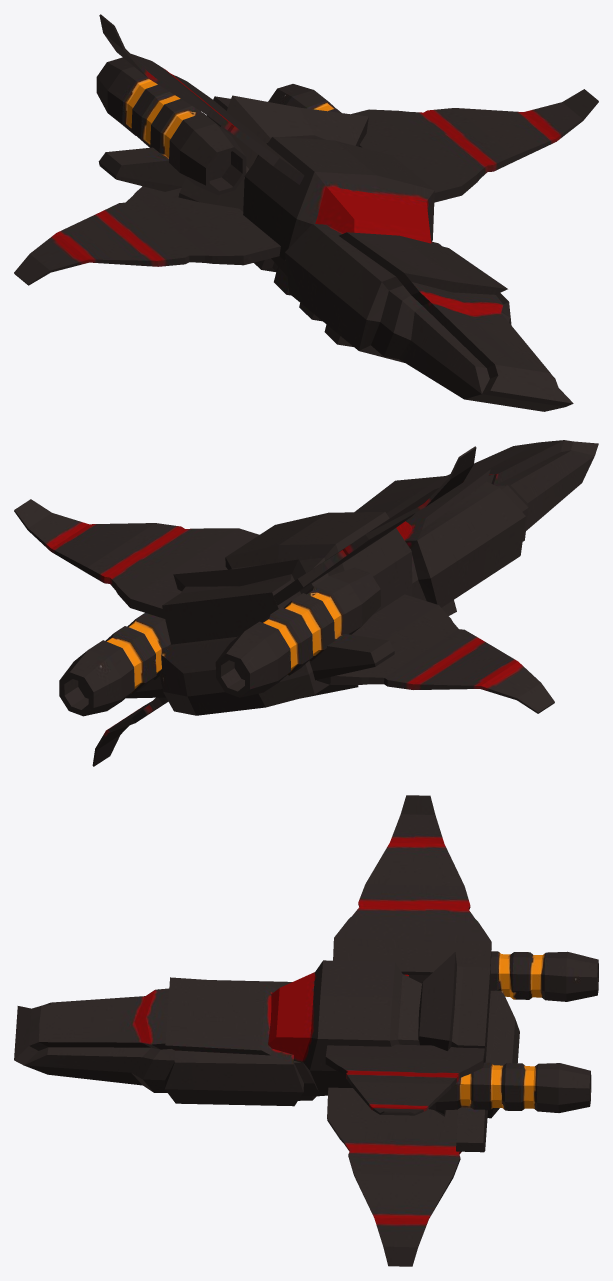
File: nave-anim.glb
3 views of the same model, one above another, from view 1: azimuth 30°, elevation 25°; view 2: azimuth 150°, elevation 25°; view 3: azimuth 270°, elevation 25° (orthographic). The views are drawn at different scales.
Parts seen in each view (by area): view 1: Cube.001; view 2: Cube.001; view 3: Cube.001.
Boxes of the visible parts, box(x1,y1,x2,y2) form: Cube.001: box(14, 14, 598, 411); Cube.001: box(14, 440, 598, 766); Cube.001: box(14, 795, 598, 1266).
Bounding box in the file's own units: 9.57 × 6.92 × 11.28.
Materials: 1 (1 with a texture image).
